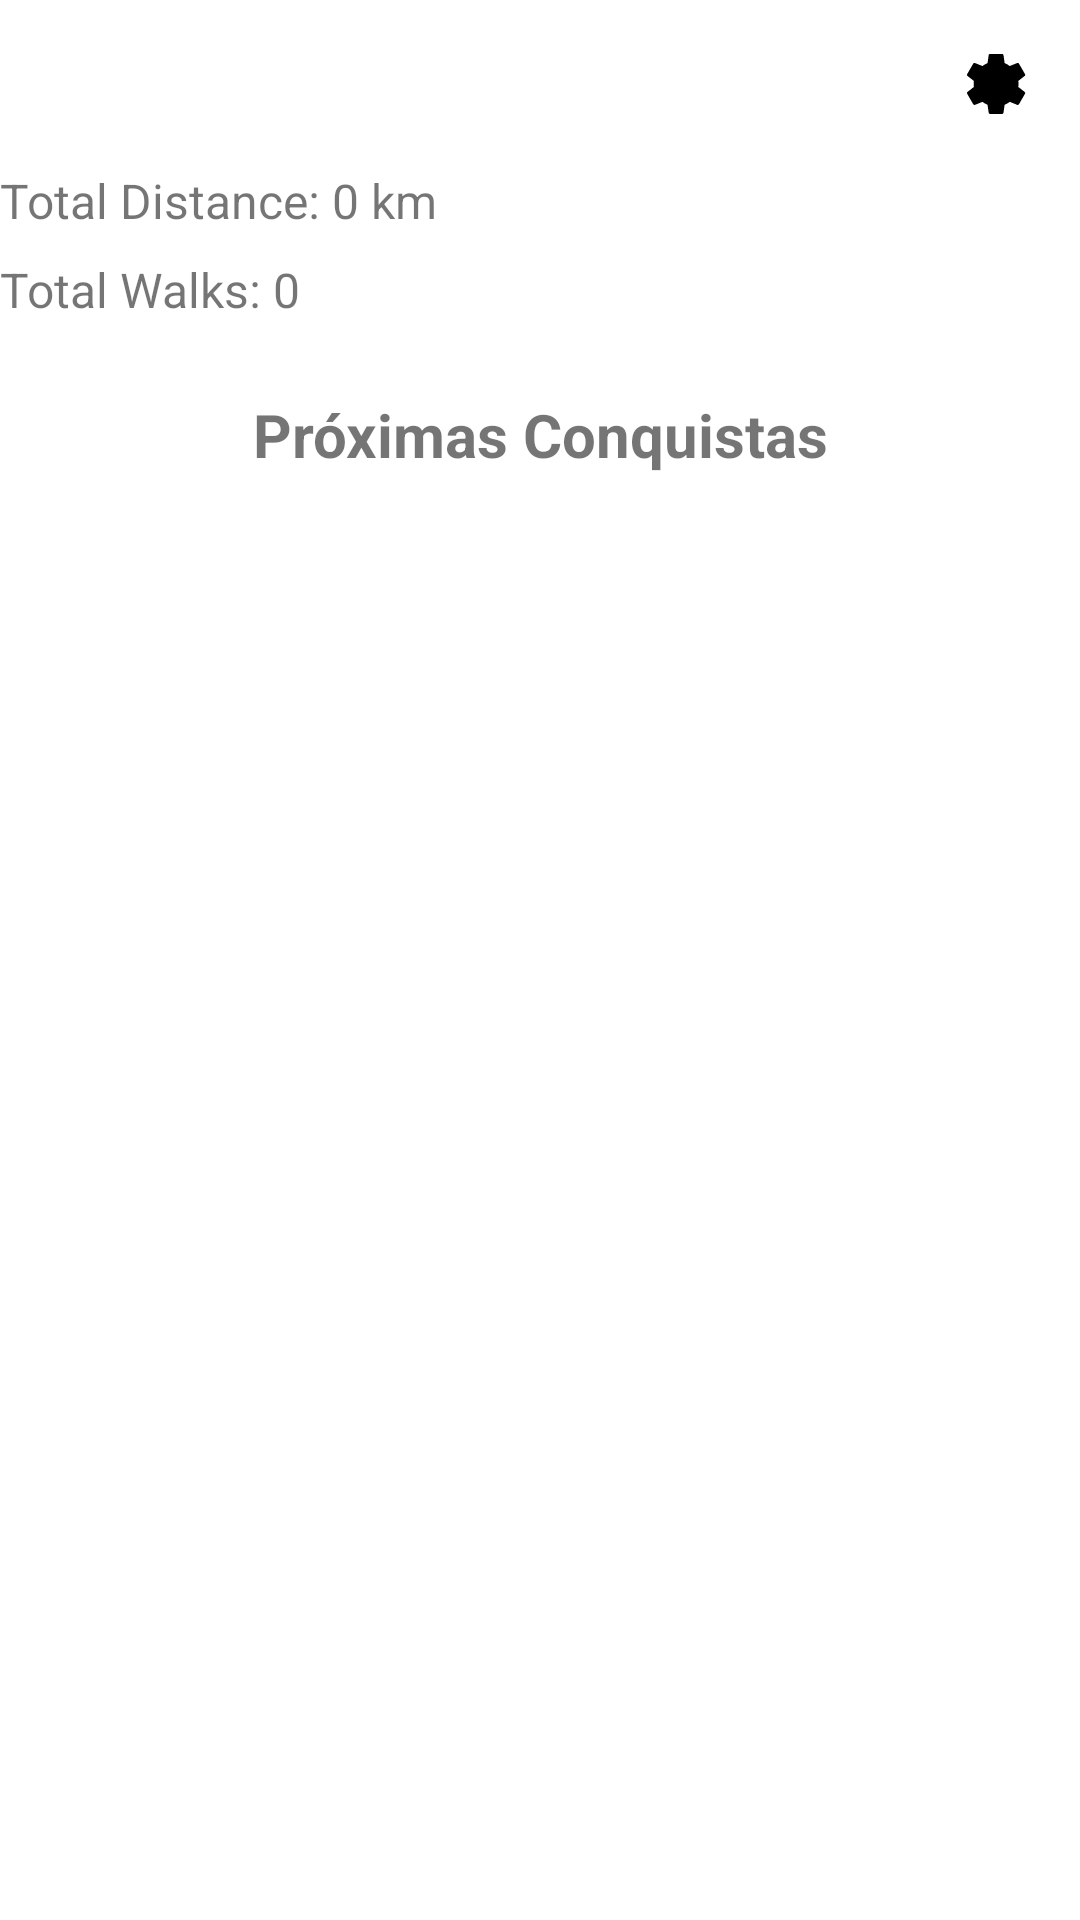

Locate icon controls on the screen. Image size 1080w x 1920h, boxes as [left=x1, top=y1, right=x2, bottom=y2].
Definições: [left=967, top=54, right=1026, bottom=114]
